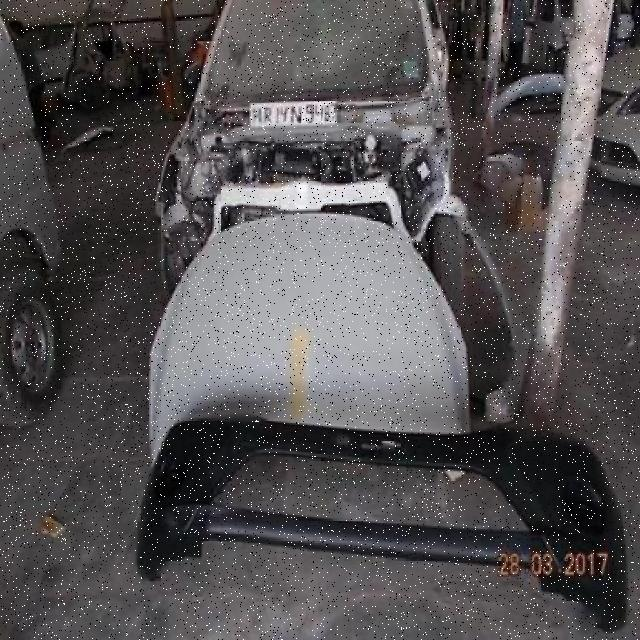damage: (162, 164, 446, 271)
